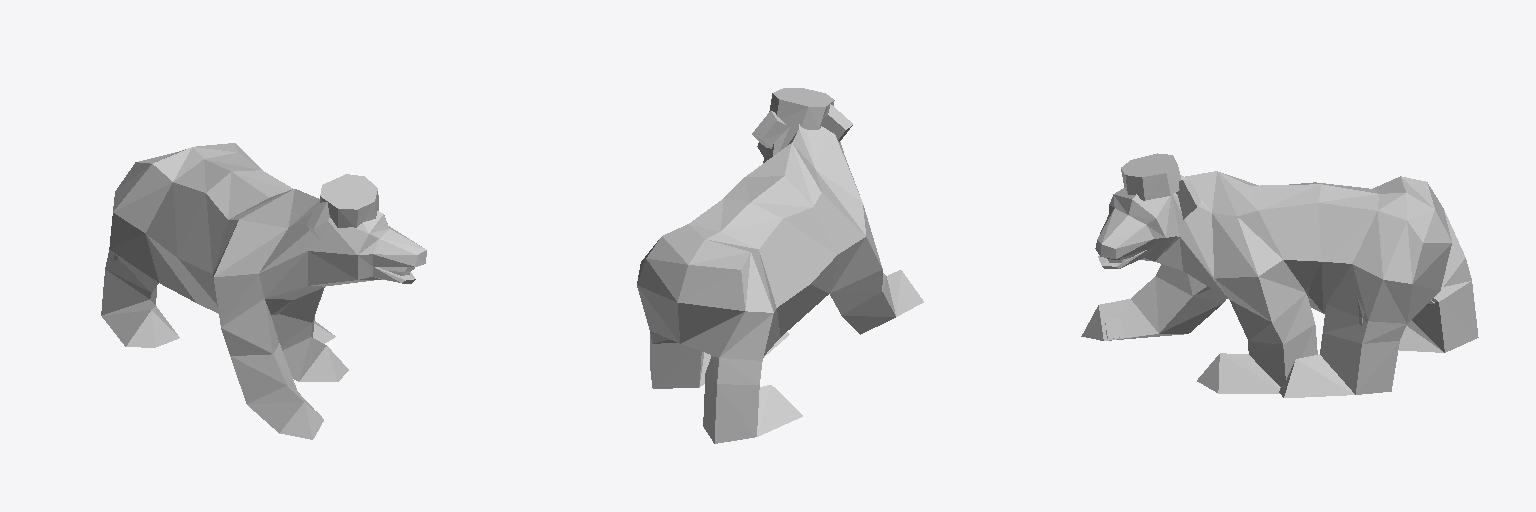
File: Karhu_000003.obj
3 views of the same model, side by side, from view 1: azimuth 30°, elevation 25°; view 2: azimuth 150°, elevation 25°; view 3: azimuth 270°, elevation 25° (orthographic).
Parts seen in each view (by area): view 1: Karhu_Plane.003; view 2: Karhu_Plane.003; view 3: Karhu_Plane.003.
Boxes of the visible parts, x1=… form: Karhu_Plane.003: x1=101, y1=143, x2=426, y2=439; Karhu_Plane.003: x1=637, y1=88, x2=923, y2=443; Karhu_Plane.003: x1=1081, y1=153, x2=1478, y2=397.
Size of the model in its own units: 3.31 by 4.17 by 6.85.